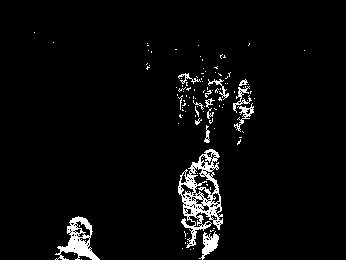person: (178, 146, 222, 257), (232, 80, 257, 148)
